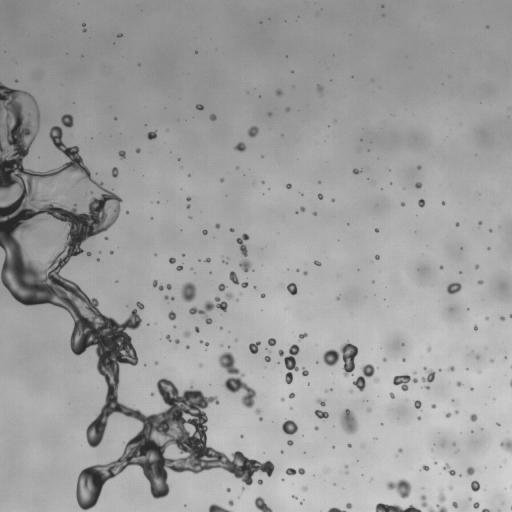droplet: (323, 342, 358, 376), (420, 489, 447, 511), (339, 408, 358, 434), (386, 479, 411, 498), (393, 374, 417, 390), (181, 282, 196, 302), (254, 497, 272, 511), (282, 419, 297, 434), (421, 367, 435, 382), (446, 282, 461, 294), (500, 438, 511, 453), (61, 114, 73, 127), (314, 410, 329, 419), (286, 283, 297, 295), (249, 341, 260, 353), (229, 271, 239, 284), (247, 126, 258, 137), (234, 142, 245, 151), (471, 480, 479, 491), (147, 131, 156, 139), (316, 398, 325, 406), (466, 466, 474, 475), (218, 283, 226, 291), (136, 301, 144, 309), (268, 338, 276, 346), (168, 311, 175, 320), (414, 400, 421, 409), (112, 167, 118, 177), (118, 150, 125, 158), (298, 333, 307, 339), (302, 367, 308, 376), (205, 317, 212, 324), (470, 414, 477, 421), (352, 168, 360, 174), (196, 104, 203, 110), (209, 114, 216, 120), (418, 199, 424, 206), (314, 260, 321, 266), (183, 331, 190, 337), (276, 89, 282, 95), (415, 182, 421, 188), (169, 257, 175, 263), (226, 293, 232, 299), (473, 502, 479, 508), (317, 85, 322, 92), (241, 282, 248, 287), (278, 349, 283, 356), (421, 465, 428, 470), (452, 501, 457, 508), (176, 265, 182, 270), (166, 284, 171, 290), (265, 356, 270, 362), (448, 366, 454, 371), (456, 381, 462, 386), (389, 392, 394, 398), (255, 408, 260, 414), (228, 500, 233, 506), (286, 183, 291, 188), (215, 223, 220, 228), (202, 229, 207, 234), (205, 257, 210, 262), (289, 393, 294, 398), (445, 412, 450, 417), (287, 440, 292, 445), (257, 479, 262, 484), (302, 486, 307, 491), (346, 503, 351, 508), (195, 326, 199, 332), (166, 334, 170, 340), (117, 33, 122, 37), (318, 194, 322, 199), (300, 207, 305, 211), (477, 280, 482, 284), (260, 293, 265, 297), (431, 404, 436, 408), (136, 148, 140, 152), (417, 165, 421, 169), (401, 202, 405, 206), (186, 204, 190, 208), (375, 255, 379, 259), (223, 260, 227, 264), (164, 295, 168, 299), (500, 316, 504, 320), (175, 339, 179, 343), (374, 378, 378, 382), (349, 389, 353, 393), (367, 407, 371, 411), (314, 426, 318, 430), (347, 443, 351, 447), (398, 448, 402, 452), (292, 495, 296, 499), (474, 325, 477, 330), (286, 107, 289, 111), (187, 197, 190, 201), (375, 228, 378, 232), (475, 264, 478, 268), (303, 271, 307, 274), (427, 347, 430, 351), (382, 358, 386, 361), (425, 386, 429, 389), (325, 389, 329, 392), (150, 392, 153, 396), (417, 416, 421, 419), (442, 201, 445, 204), (313, 212, 316, 215), (478, 221, 481, 224), (230, 228, 233, 231), (87, 252, 90, 255), (440, 266, 443, 269), (336, 296, 339, 299), (485, 316, 488, 319), (476, 355, 479, 358), (402, 358, 405, 361), (199, 364, 202, 367), (281, 398, 284, 401), (455, 410, 458, 413), (227, 488, 230, 491), (241, 488, 244, 491), (509, 314, 511, 318), (83, 28, 85, 31), (268, 113, 271, 115), (220, 179, 223, 181), (331, 199, 334, 201), (126, 211, 128, 214), (456, 223, 459, 225), (110, 251, 112, 254), (182, 253, 184, 256), (253, 286, 256, 288), (186, 346, 189, 348), (155, 361, 157, 364), (478, 370, 480, 373), (451, 399, 454, 401), (259, 418, 262, 420), (240, 435, 243, 437), (449, 487, 452, 489), (318, 181, 320, 183), (90, 191, 92, 193), (489, 229, 491, 231), (487, 247, 489, 249), (171, 297, 173, 299), (220, 327, 222, 329), (235, 339, 237, 341), (402, 343, 404, 345), (491, 359, 493, 361), (471, 388, 473, 390), (497, 423, 499, 425), (453, 443, 455, 445), (345, 465, 347, 467), (469, 498, 471, 500)
ligament: (0, 82, 270, 506), (218, 352, 256, 408), (189, 297, 227, 316), (353, 364, 376, 391), (236, 233, 251, 272), (284, 344, 299, 383), (375, 503, 421, 511), (208, 504, 231, 511), (443, 463, 455, 475), (285, 468, 305, 475), (153, 280, 163, 290), (328, 507, 346, 511), (200, 340, 208, 346), (481, 508, 491, 511), (510, 380, 511, 386), (497, 510, 500, 511)
